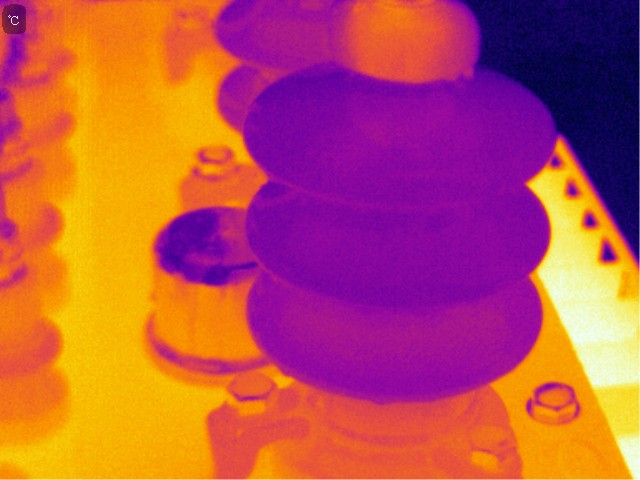Oil: (335, 1, 480, 86), (358, 99, 434, 146)
